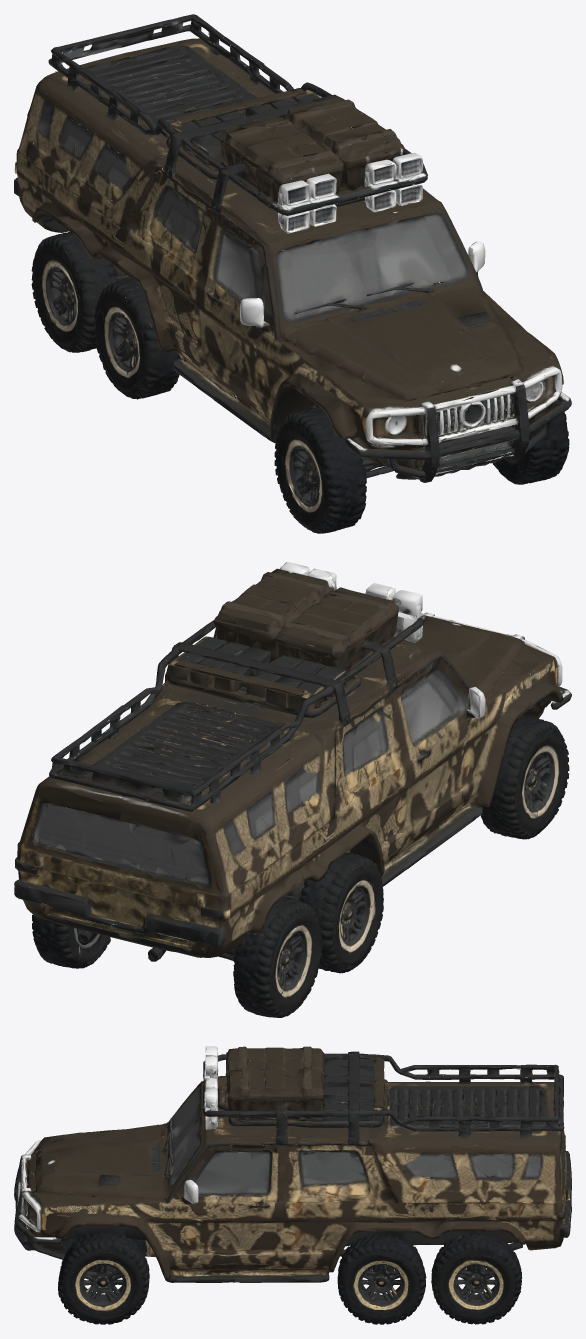
File: wasteland-raider.glb
3 views of the same model, one above another, from view 1: azimuth 30°, elevation 25°; view 2: azimuth 150°, elevation 25°; view 3: azimuth 270°, elevation 25° (orthographic). The views are drawn at different scales.
Visible parts, largest first — view 1: wasteland-raider; view 2: wasteland-raider; view 3: wasteland-raider.
Part boxes in pixels (<box>): wasteland-raider: <box>14,14,571,533</box>; wasteland-raider: <box>14,562,571,1017</box>; wasteland-raider: <box>14,1046,571,1324</box>.
Bounding box in the file's own units: 2.15 × 2.42 × 5.6.
1 material, 1 textured.
